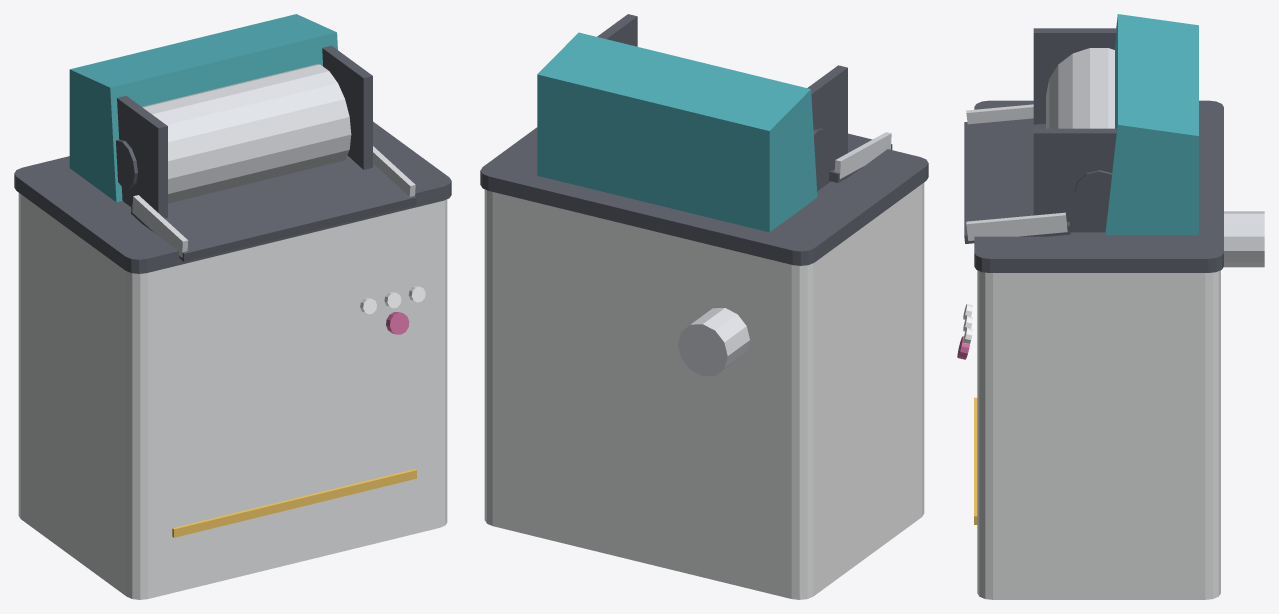
File: snowboard-gear-and-freestyle-riders-base-grinder-ccf8d37f__27188.glb
The picture shows the model from 3 angles, left to right: view 1: azimuth 30°, elevation 25°; view 2: azimuth 150°, elevation 25°; view 3: azimuth 270°, elevation 25°; orthographic projection. The views are drawn at different scales.
Visible parts, largest first — view 1: base-grinder; view 2: base-grinder; view 3: base-grinder.
Part boxes in pixels (bbox=[...]): base-grinder: bbox=[14, 14, 451, 599]; base-grinder: bbox=[480, 14, 928, 599]; base-grinder: bbox=[957, 14, 1264, 599].
Size of the model in its own units: 1.2 by 1.6 by 0.9841.
